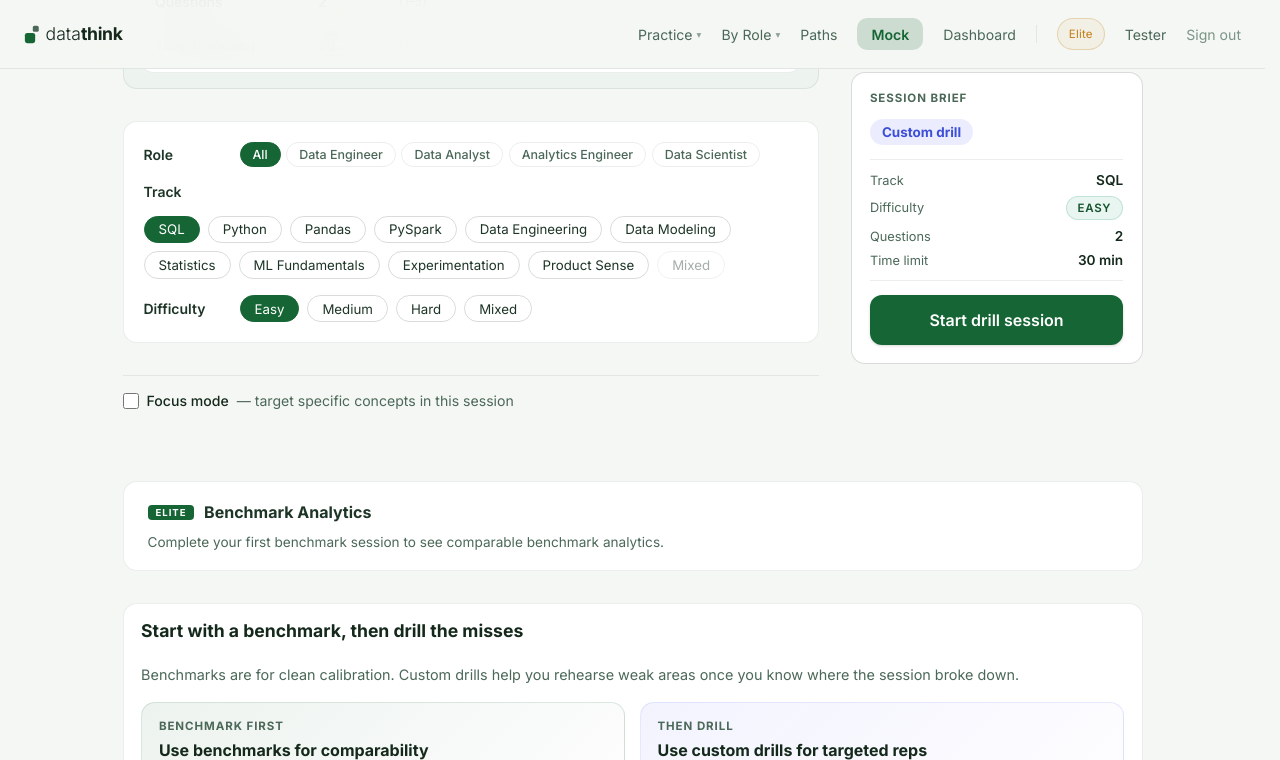
Test: MockHub gating consistency — focus mode › Focus concept cap: a 4th pill stays clickable and surfaces the cap note (no hard-disable)
(page scrolled)
Click the checkbox labelled "Focus mode — target specific concepts in this session". click: (130, 401)
box: x1=122 y1=393 x2=138 y2=409
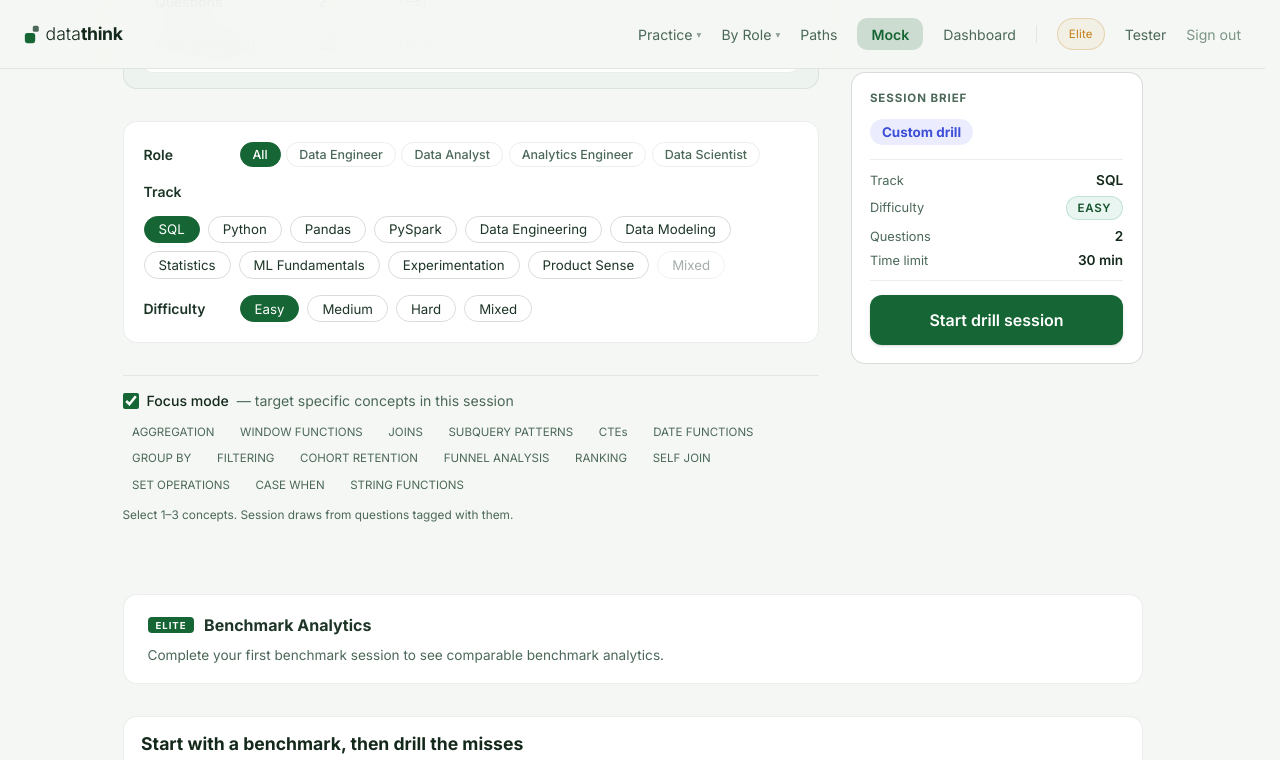
Click the button with class "mock-focus-concept-pill" showing "AGGREGATION". click: (173, 432)
box: x1=122 y1=422 x2=224 y2=442
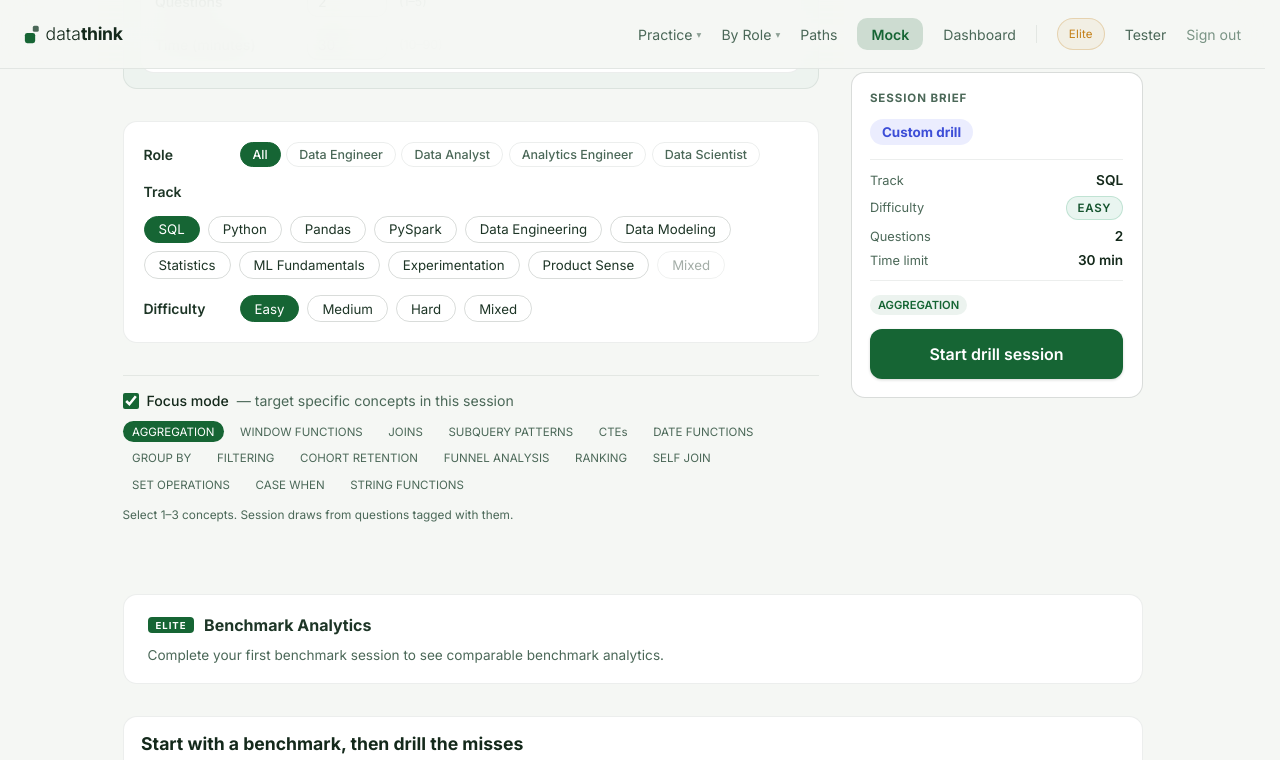
Click the button with class "mock-focus-concept-pill" showing "WINDOW FUNCTIONS". click: (301, 432)
box: x1=230 y1=422 x2=372 y2=442
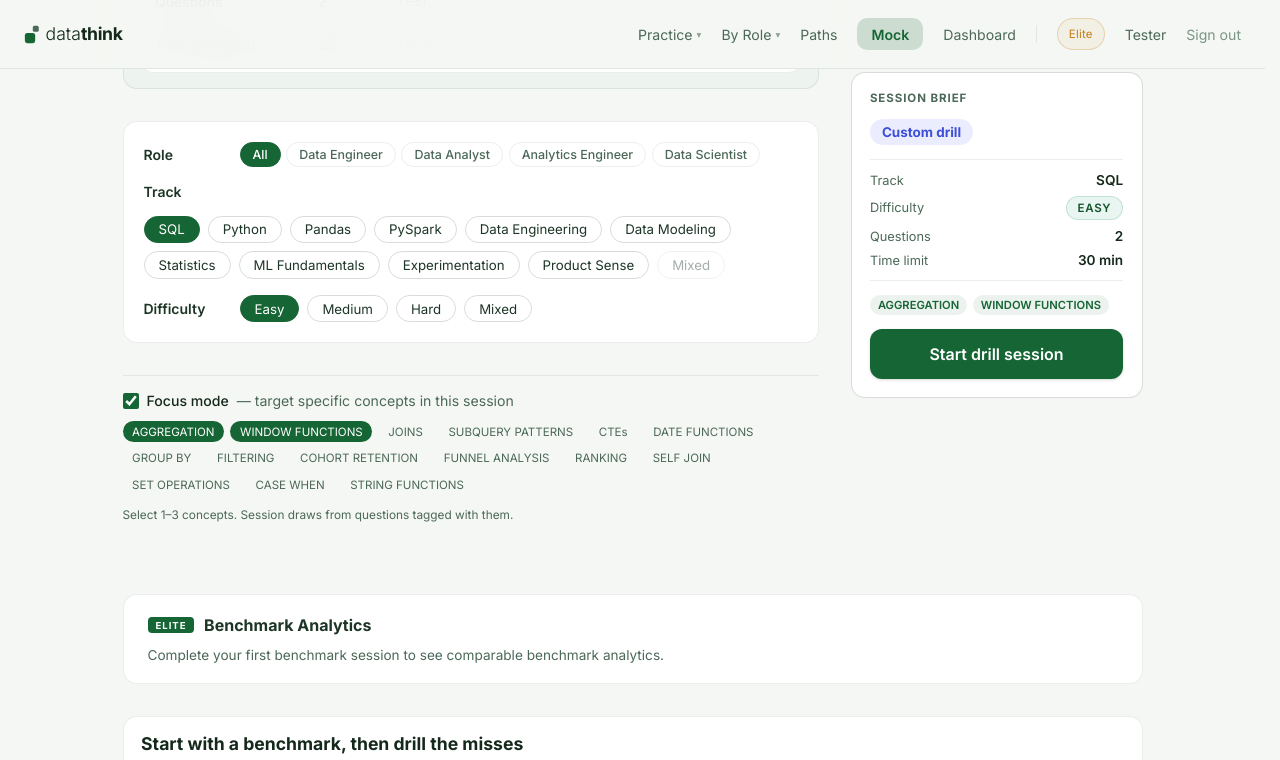
Click the button with class "mock-focus-concept-pill" showing "JOINS". click: (406, 432)
box: x1=379 y1=422 x2=432 y2=442
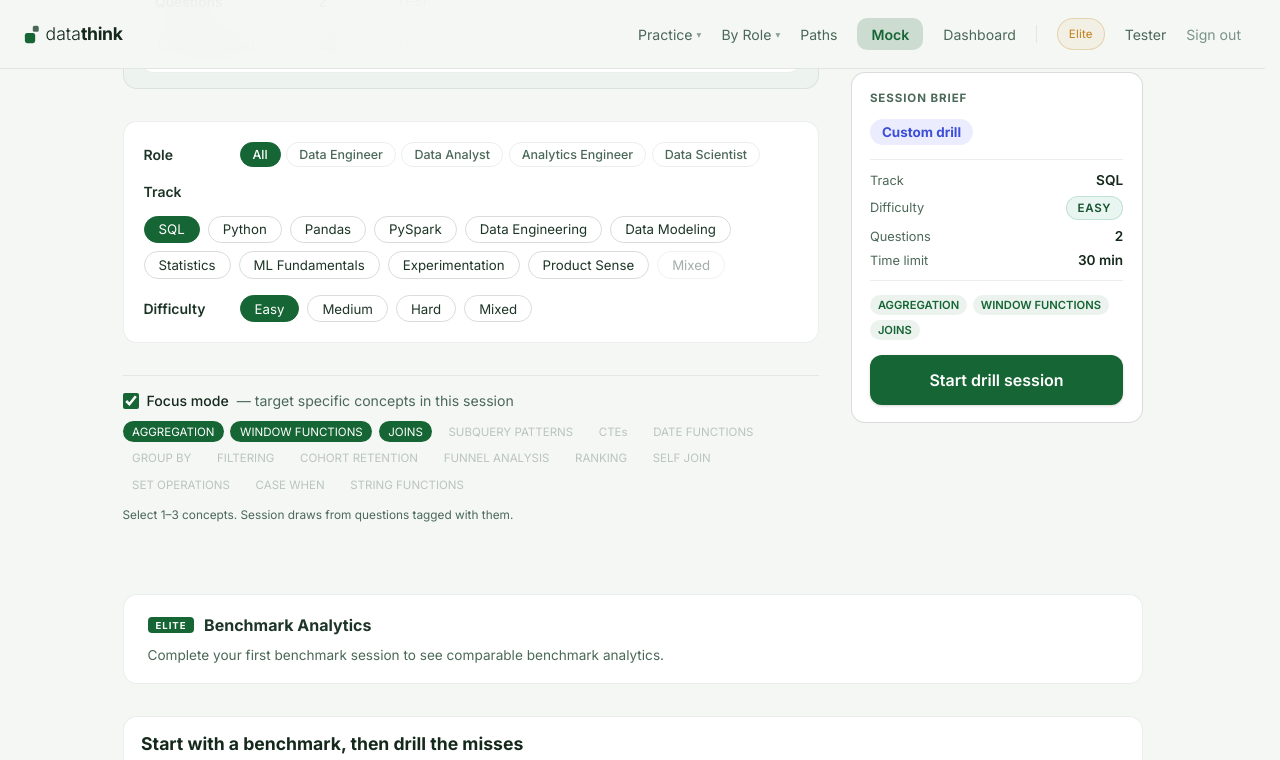
Now the button with class "mock-focus-concept-pill" showing "SUBQUERY PATTERNS" is enabled
Click the button with class "mock-focus-concept-pill" showing "SUBQUERY PATTERNS". click: (511, 432)
box: x1=439 y1=422 x2=583 y2=442
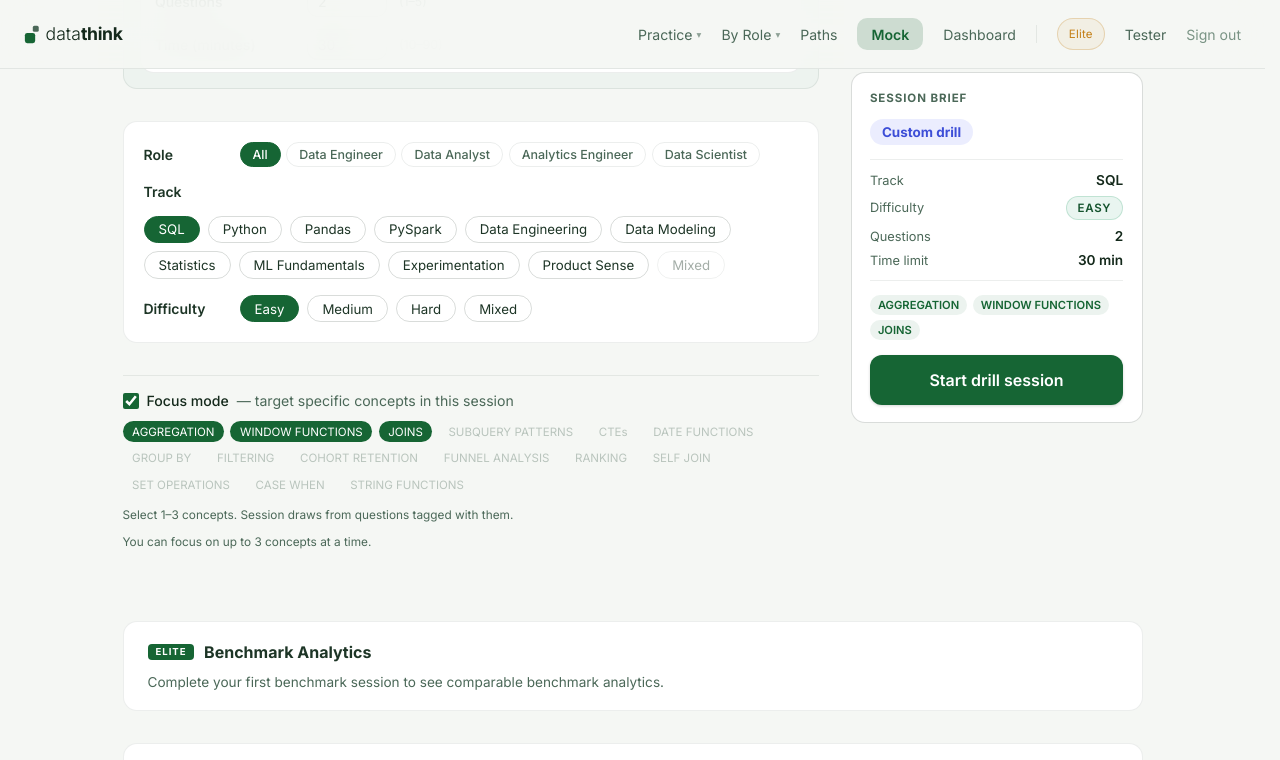
Now the text "You can focus on up to 3 concepts at a time." is shown, box x1=122 y1=535 x2=371 y2=549
